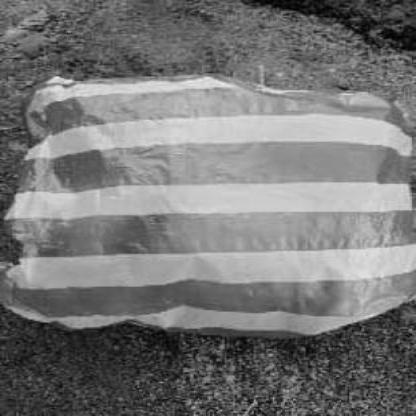objects: (0, 75, 412, 341)
